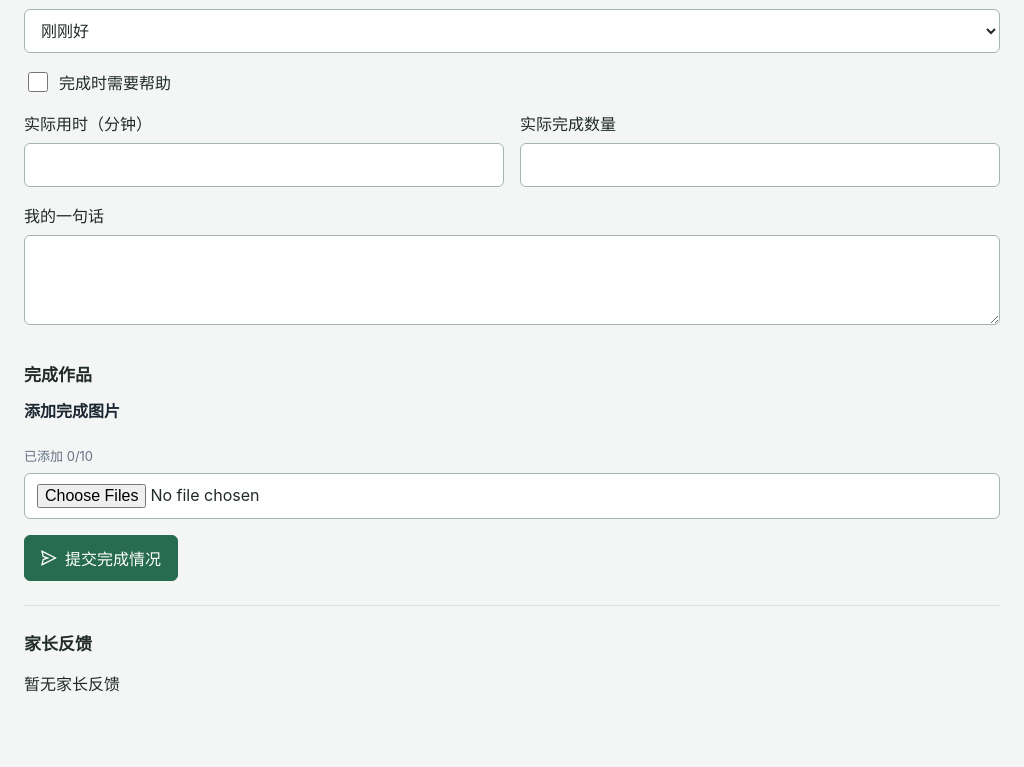
Test: child task completion › reloads the task and explains a state conflict
The width and height of the screenshot is (1024, 767).
(page scrolled)
What coordinates should you click on to do the following:
click the button "提交完成情况"
I would click on:
 (101, 558)
Its box is [24,535,178,581].
(page scrolled)
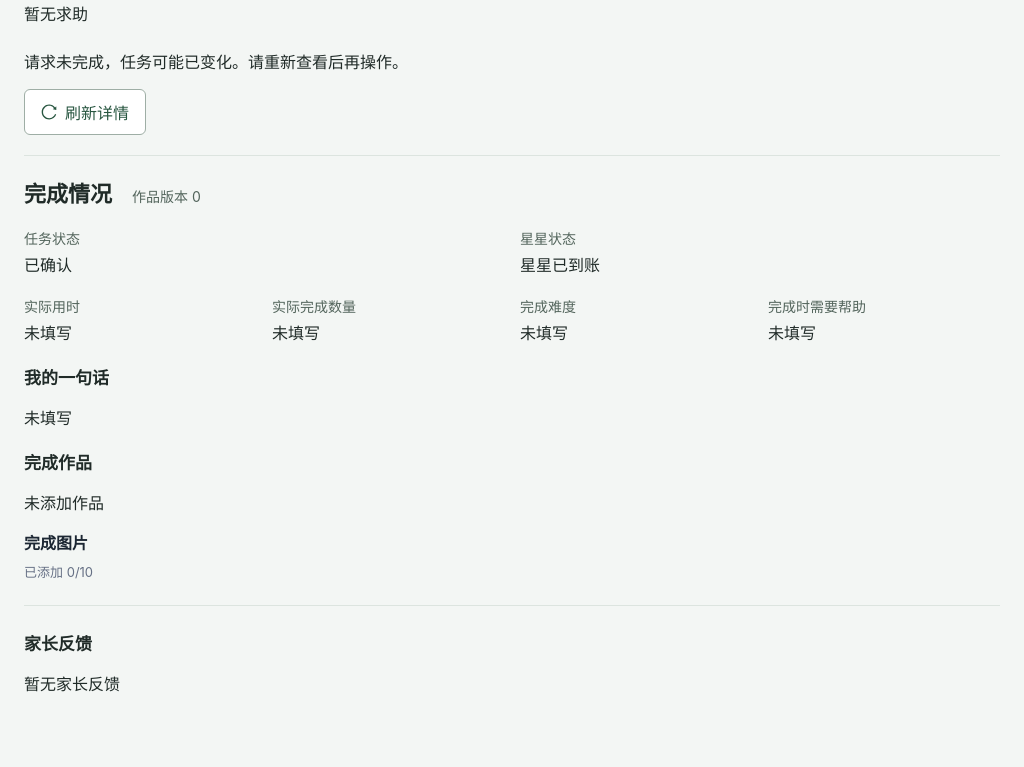
Expected: the text "请求未完成，任务可能已变化。请重新查看后再操作。" is shown, [24,52,408,72]
Expected: the text "星星已到账" is shown, [520,255,600,275]
Expected: the button "提交完成情况" is gone
